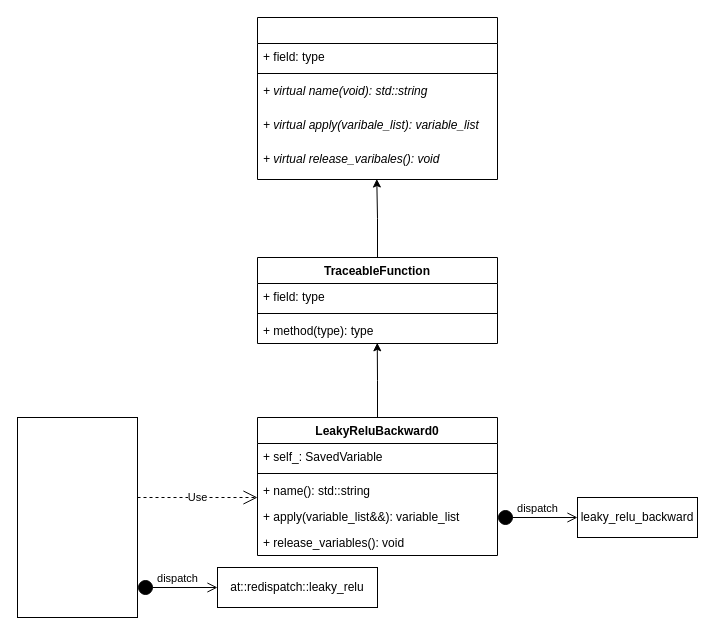
Some shapes in this 715 by 635 pixel diagram are drawn without their labels. Each missing label, with the box of its shape:
leaky_relu: (16, 416, 138, 618)
Node: (256, 16, 498, 180)
